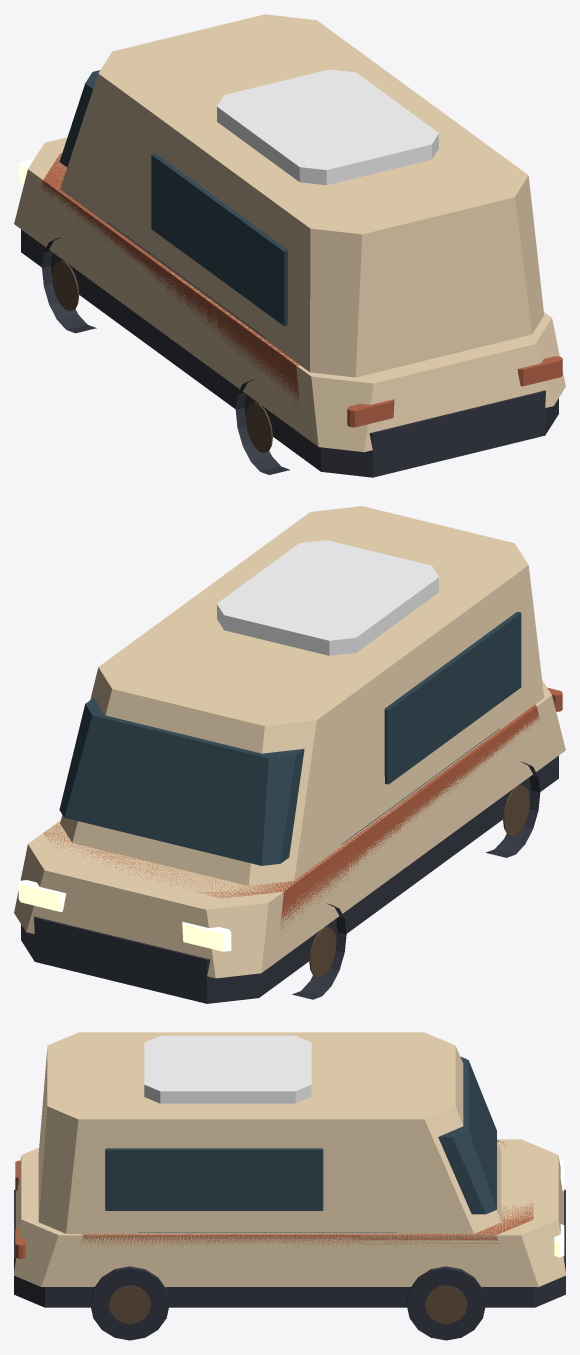
File: city-traffic.glb
The picture shows the model from 3 angles, top to bottom: view 1: azimuth 30°, elevation 25°; view 2: azimuth 150°, elevation 25°; view 3: azimuth 270°, elevation 25°; orthographic projection. The views are drawn at different scales.
Parts seen in each view (by area): view 1: Traffic body 2, Traffic body 1; view 2: Traffic body 2, Traffic body 1; view 3: Traffic body 2, Traffic body 1.
Part boxes in pixels (x1,y1,x2,y2): Traffic body 2: (14, 14, 565, 477); Traffic body 1: (36, 153, 305, 474); Traffic body 2: (14, 506, 565, 1003); Traffic body 1: (44, 704, 543, 999); Traffic body 2: (14, 1032, 565, 1307); Traffic body 1: (69, 1139, 533, 1340).
Bounding box in the file's own units: 1.96 × 2.01 × 4.45.
